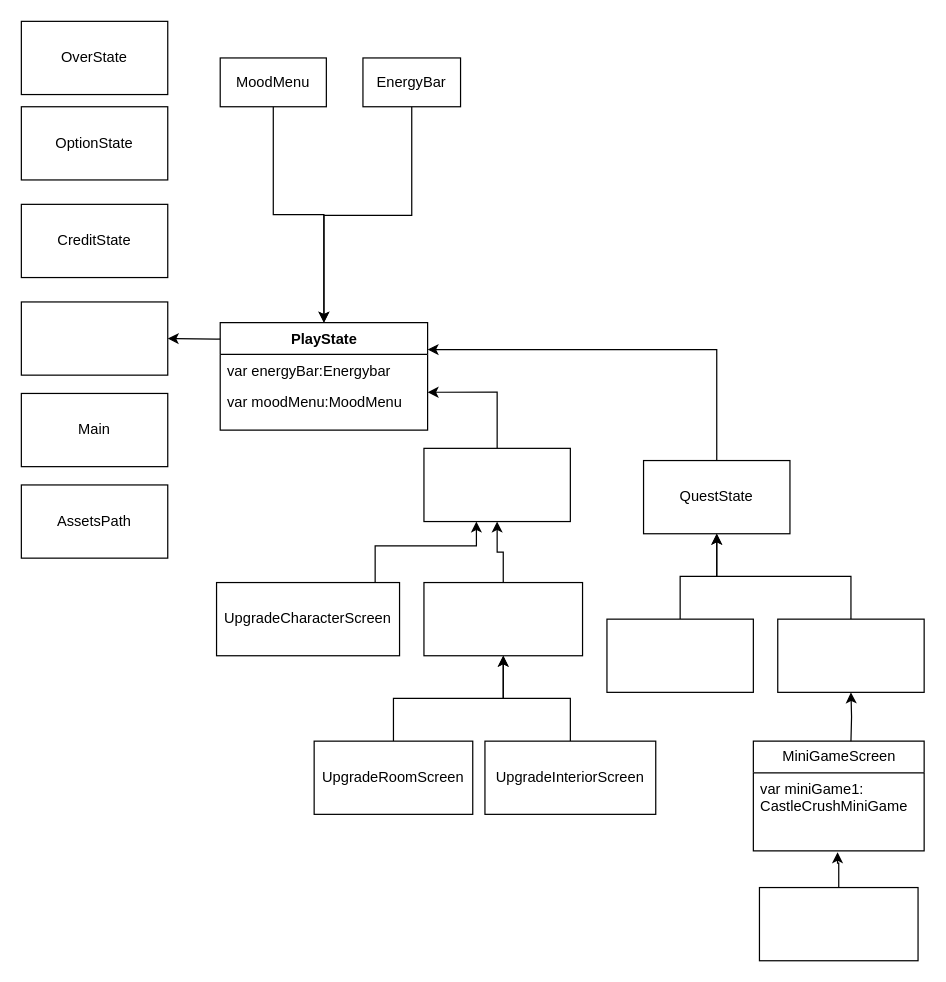
Some shapes in this 946 by 982 pixel diagram are drawn without their labels. Here are the shapes that lost their labels. From the top down, the centre of each, then its label:
At (x=94, y=338): "MenuState".
At (x=496, y=484): "UpgradeMenuState".
At (x=503, y=618): "UpgradeCastleScreen".
At (x=679, y=655): "ContactListState".
At (x=850, y=655): "JobListState".
At (x=838, y=923): "CastleCrushMiniGame".
